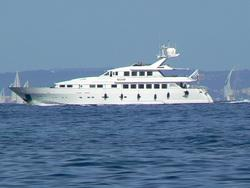yacht: (7, 39, 215, 106)
